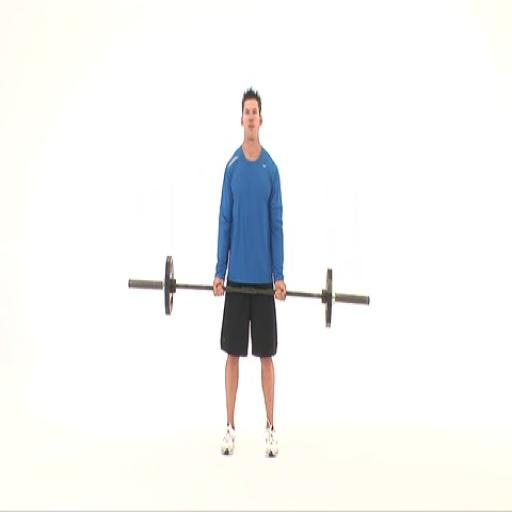exercise: (210, 85, 288, 461)
